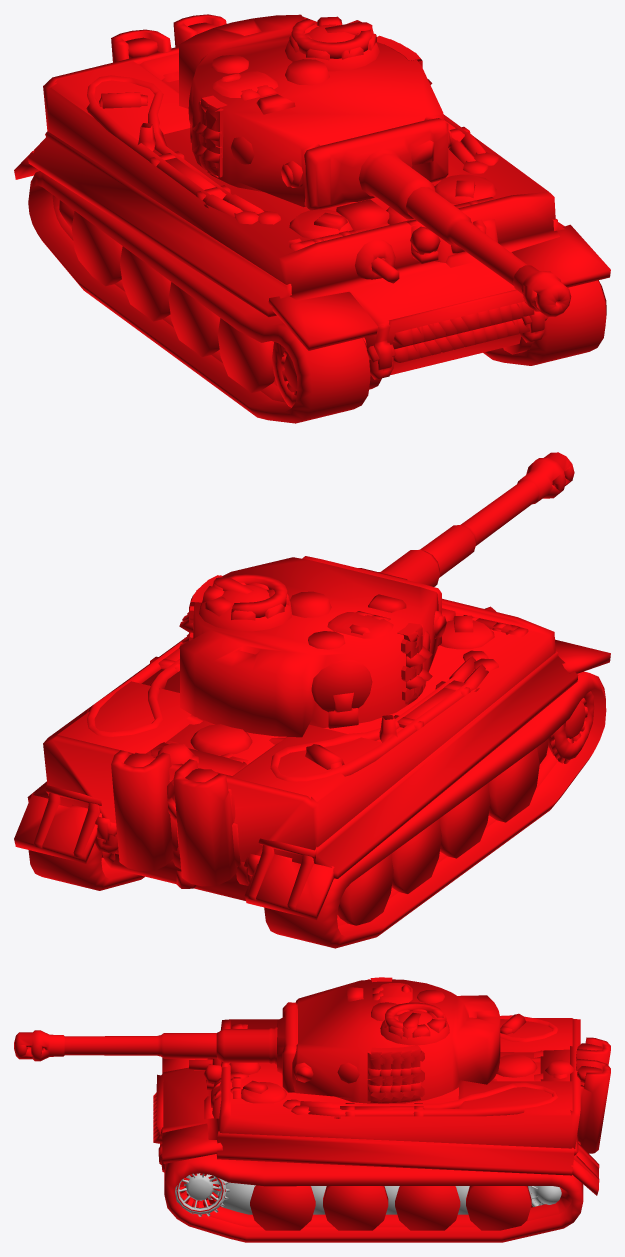
Rendered from Tank_v2.fbx.
3 renders of one model, top to bottom at view 1: azimuth 30°, elevation 25°; view 2: azimuth 150°, elevation 25°; view 3: azimuth 270°, elevation 25°, orthographic. The views are drawn at different scales.
Parts seen in each view (by area): view 1: Object_05.001, Object_05.002, Object_05.003; view 2: Object_05.001, Object_05.002, Object_05.003; view 3: Object_05.001, Object_05.002, Object_05.003.
Part boxes in pixels (box(x1,y1,x2,y2)): Object_05.001: box(14, 14, 610, 423); Object_05.002: box(179, 14, 452, 206); Object_05.003: box(301, 116, 571, 316); Object_05.001: box(14, 598, 610, 948); Object_05.002: box(179, 557, 446, 737); Object_05.003: box(302, 452, 574, 647); Object_05.001: box(153, 1013, 610, 1242); Object_05.002: box(293, 977, 500, 1103); Object_05.003: box(14, 1001, 297, 1092).
Size of the model in its own units: 353 by 280 by 795.
